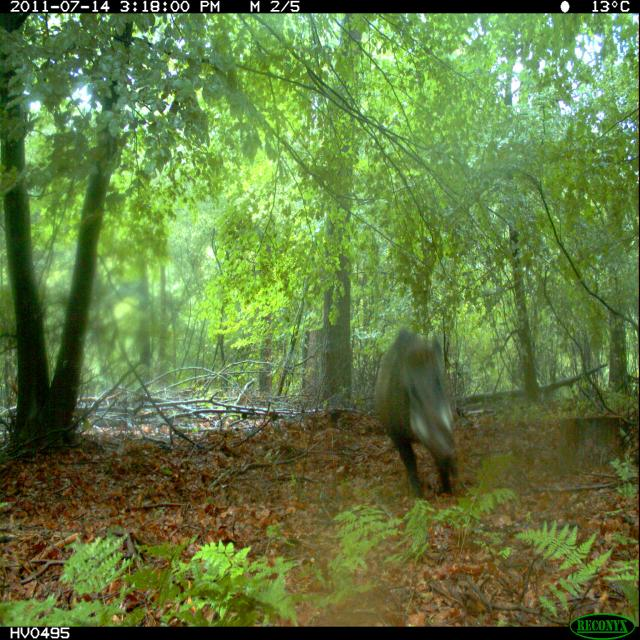boar: (363, 295, 470, 527)
